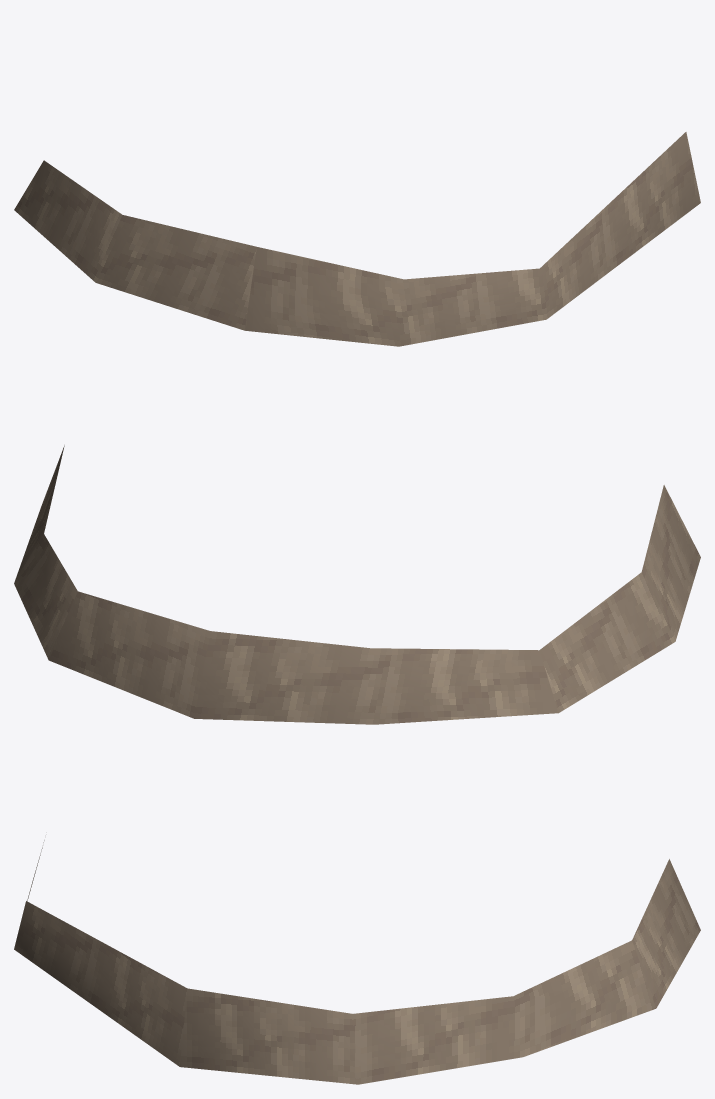
Rendered from kd_stage_1366d7_21_13_bounded.glb.
3 renders of one model, top to bottom at view 1: azimuth 30°, elevation 25°; view 2: azimuth 150°, elevation 25°; view 3: azimuth 270°, elevation 25°, orthographic. The views are drawn at different scales.
Visible parts, largest first — view 1: kd_stage_1366d7_21_13_bounded; view 2: kd_stage_1366d7_21_13_bounded; view 3: kd_stage_1366d7_21_13_bounded.
Boxes of the visible parts, x1,y1,x2,y2 form: kd_stage_1366d7_21_13_bounded: (14, 132, 700, 346); kd_stage_1366d7_21_13_bounded: (14, 445, 700, 724); kd_stage_1366d7_21_13_bounded: (14, 840, 700, 1084).
Size of the model in its own units: 49.72 by 5.94 by 50.6.
Materials: 1 (1 with a texture image).
